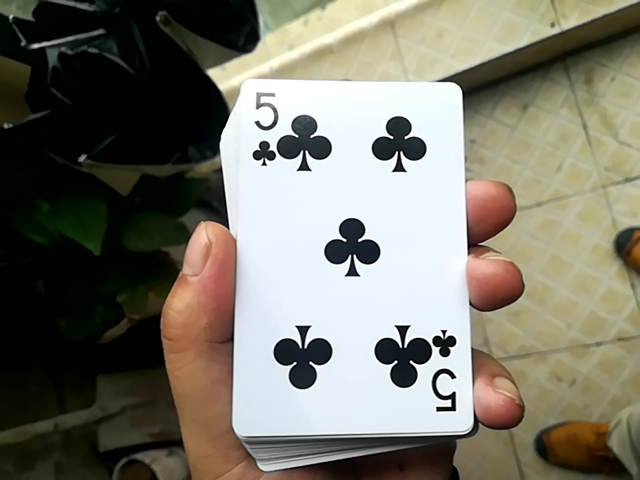mh 5: (221, 74, 472, 440)
